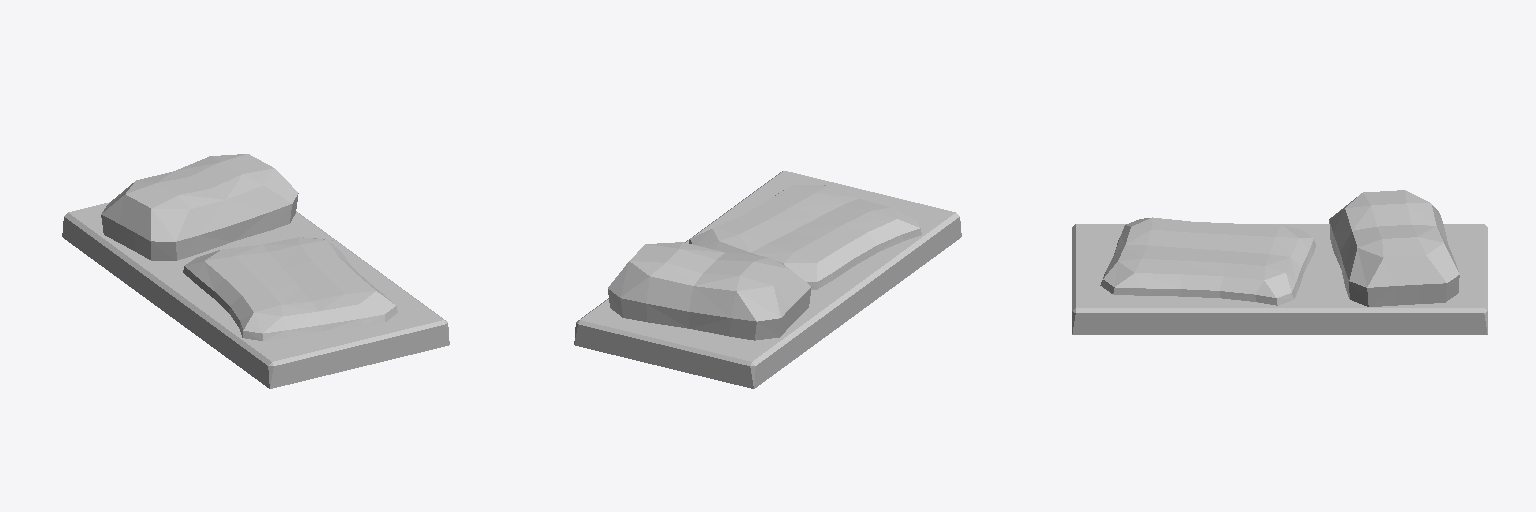
Rendered from bed_floor.obj.
3 renders of one model, left to right at view 1: azimuth 30°, elevation 25°; view 2: azimuth 150°, elevation 25°; view 3: azimuth 270°, elevation 25°, orthographic.
Visible parts, largest first — view 1: bed_floor_Cube.15525; view 2: bed_floor_Cube.15525; view 3: bed_floor_Cube.15525.
Part boxes in pixels (left/top/right/bottom): bed_floor_Cube.15525: left=62, top=154, right=449, bottom=388; bed_floor_Cube.15525: left=574, top=171, right=961, bottom=388; bed_floor_Cube.15525: left=1072, top=190, right=1487, bottom=334.
Size of the model in its own units: 1.5 by 0.5626 by 3.